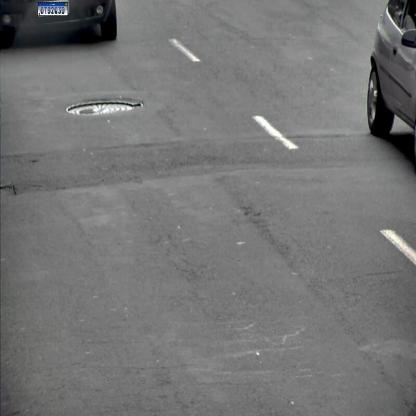PlacaM: (38, 2, 68, 16)
